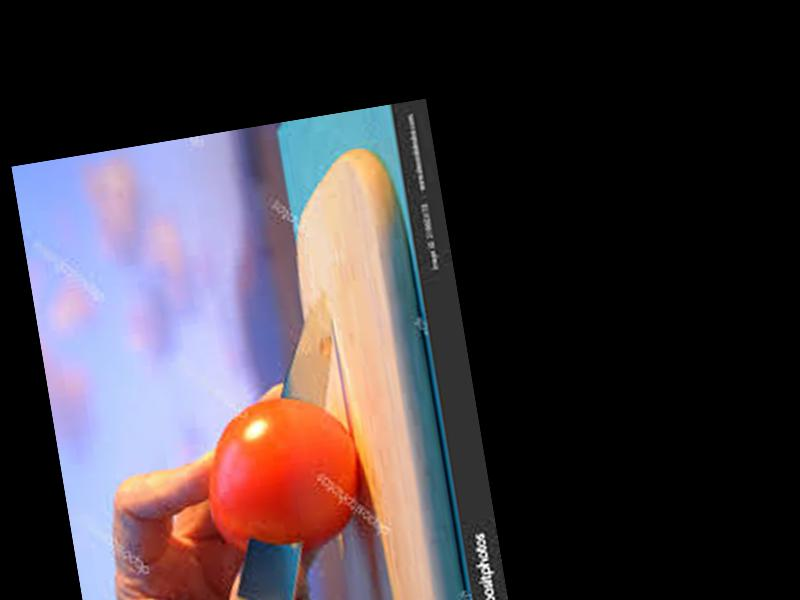Tomato: (196, 385, 373, 565)
